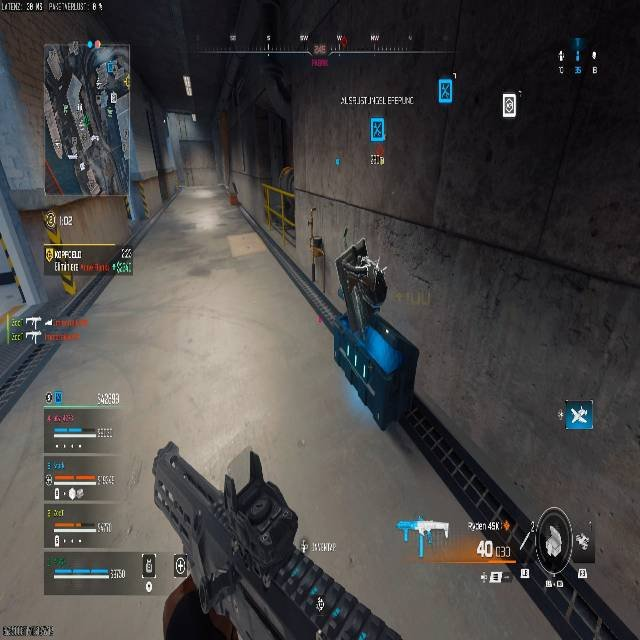head: (353, 244, 368, 260)
player: (332, 238, 421, 431), (335, 243, 387, 319)
